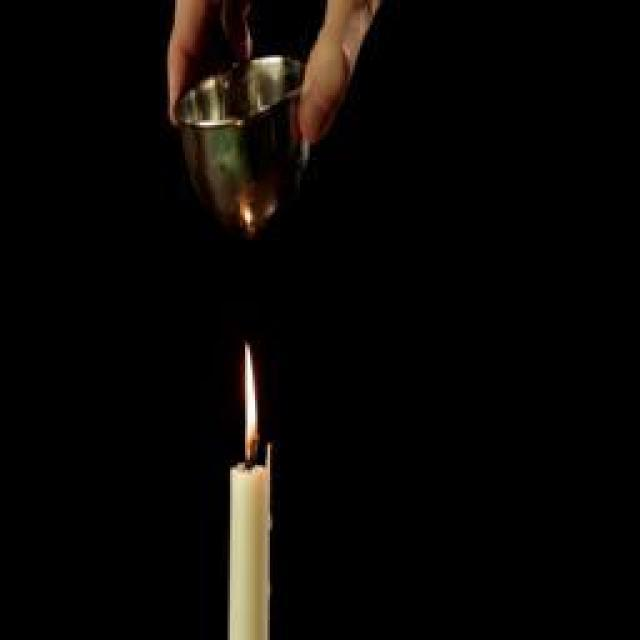Fire: (244, 342, 258, 458)
